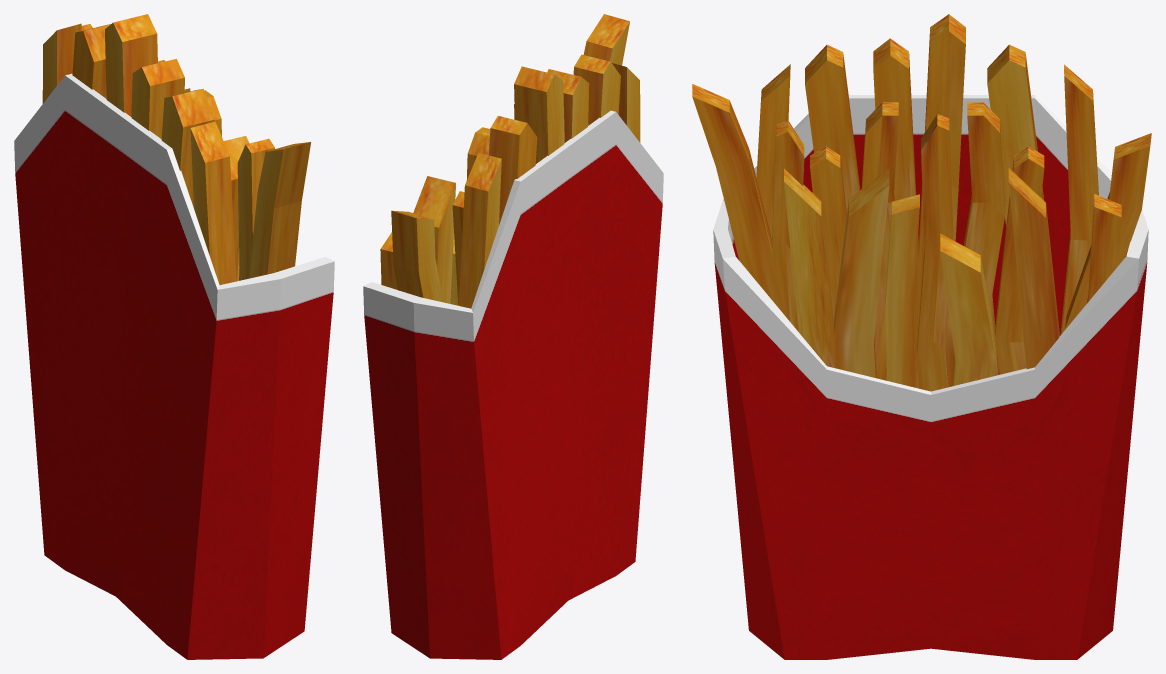
Rendered from lowpoly_french_fries.glb.
3 renders of one model, left to right at view 1: azimuth 30°, elevation 25°; view 2: azimuth 150°, elevation 25°; view 3: azimuth 270°, elevation 25°, orthographic. The views are drawn at different scales.
Visible parts, largest first — view 1: Object_2, Object_3; view 2: Object_2, Object_3; view 3: Object_2, Object_3.
Boxes of the visible parts, box(x1,y1,x2,y2) form: Object_2: box(14, 73, 334, 659); Object_3: box(42, 14, 310, 284); Object_2: box(363, 110, 663, 659); Object_3: box(380, 14, 640, 308); Object_2: box(713, 95, 1148, 659); Object_3: box(692, 14, 1151, 391).
Bounding box in the file's own units: 0.1552 × 0.7303 × 0.5152.
Materials: 2 (2 with a texture image).
